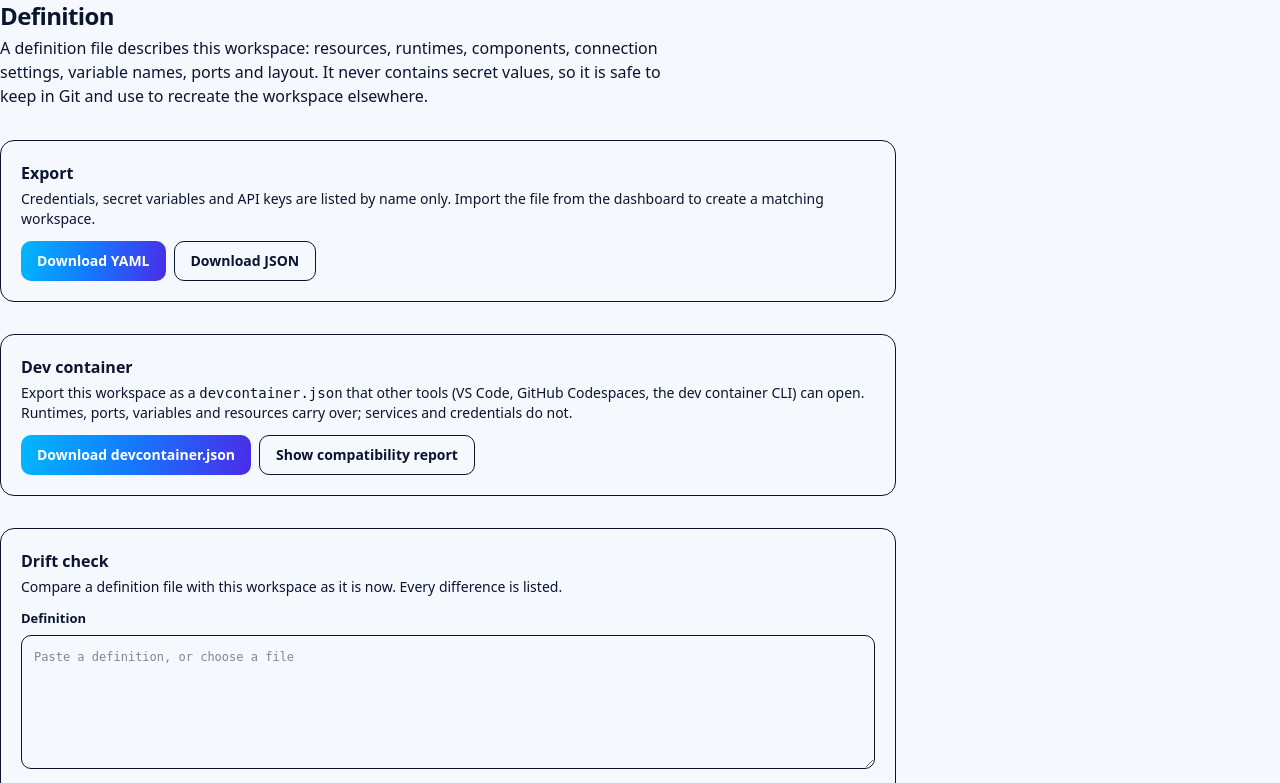
Test case: DefinitionTab › lists every difference grouped by category
The image size is (1280, 783).
In the text box labelled "Definition": (448, 702) [21, 634, 875, 768], type "kind: NexmeshWorkspace"
(page scrolled)
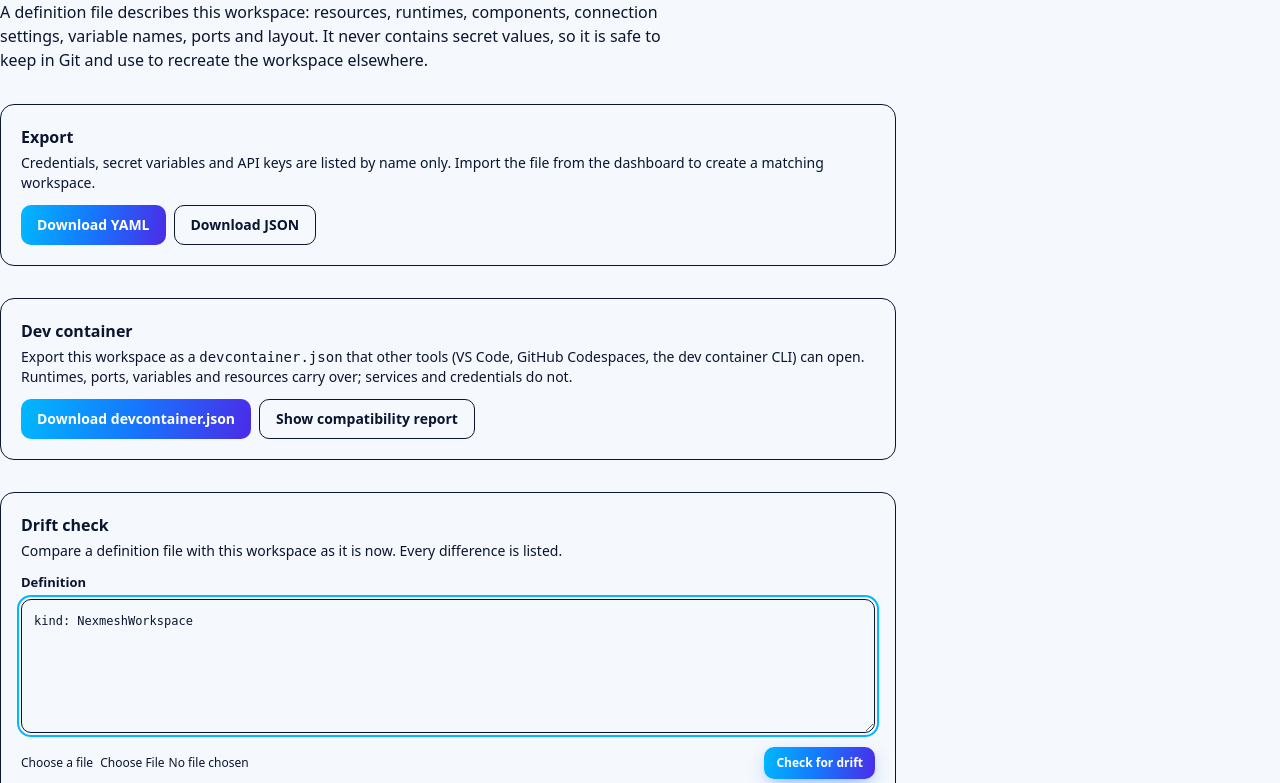
Click the button "Check for drift": (820, 762) [764, 746, 875, 778]
(page scrolled)
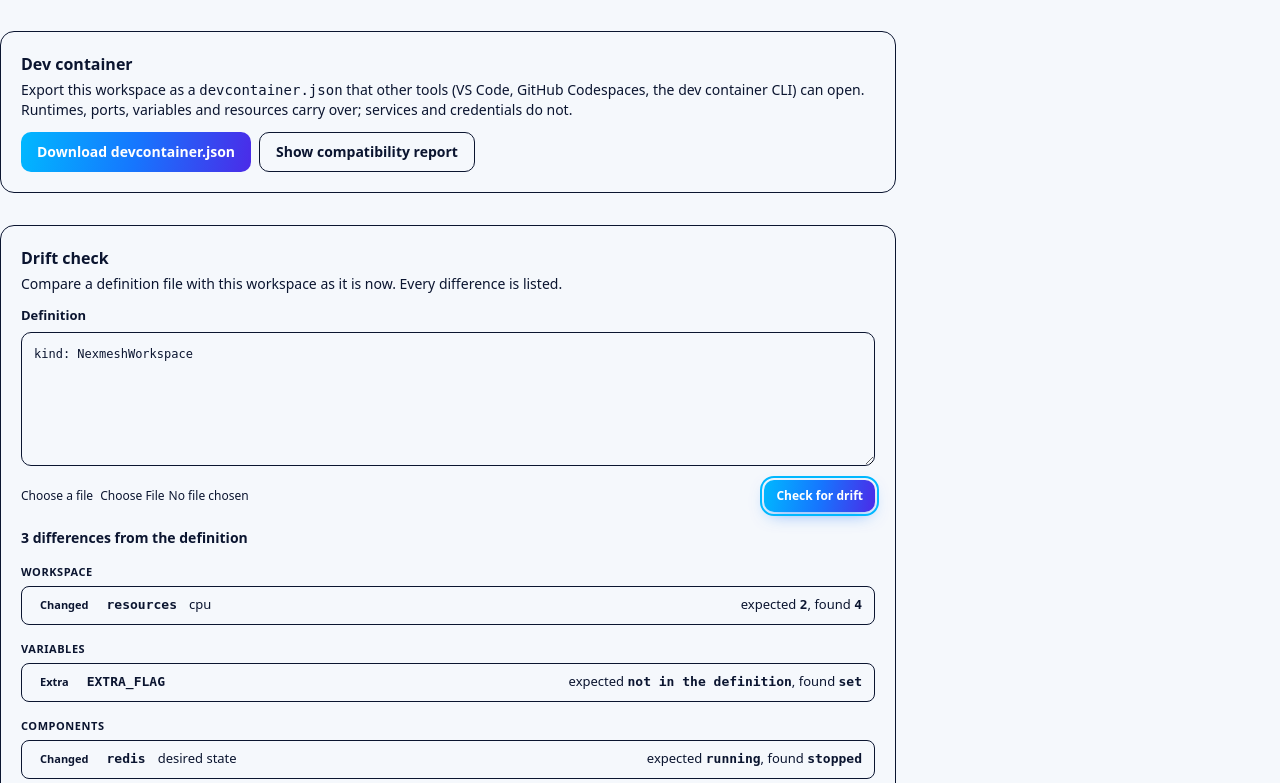
Expected: the text "3 differences from the definition" is shown, [21, 528, 248, 546]
Expected: the heading "Workspace" is shown, [21, 564, 93, 578]
Expected: the heading "Variables" is shown, [21, 640, 85, 656]
